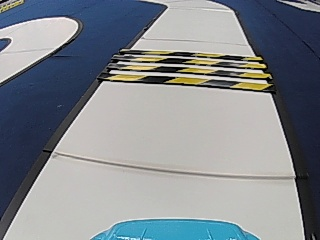bump: (96, 46, 283, 96)
